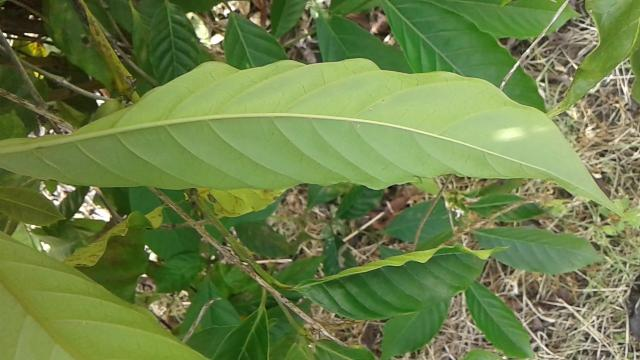healthy: (0, 54, 630, 222)
